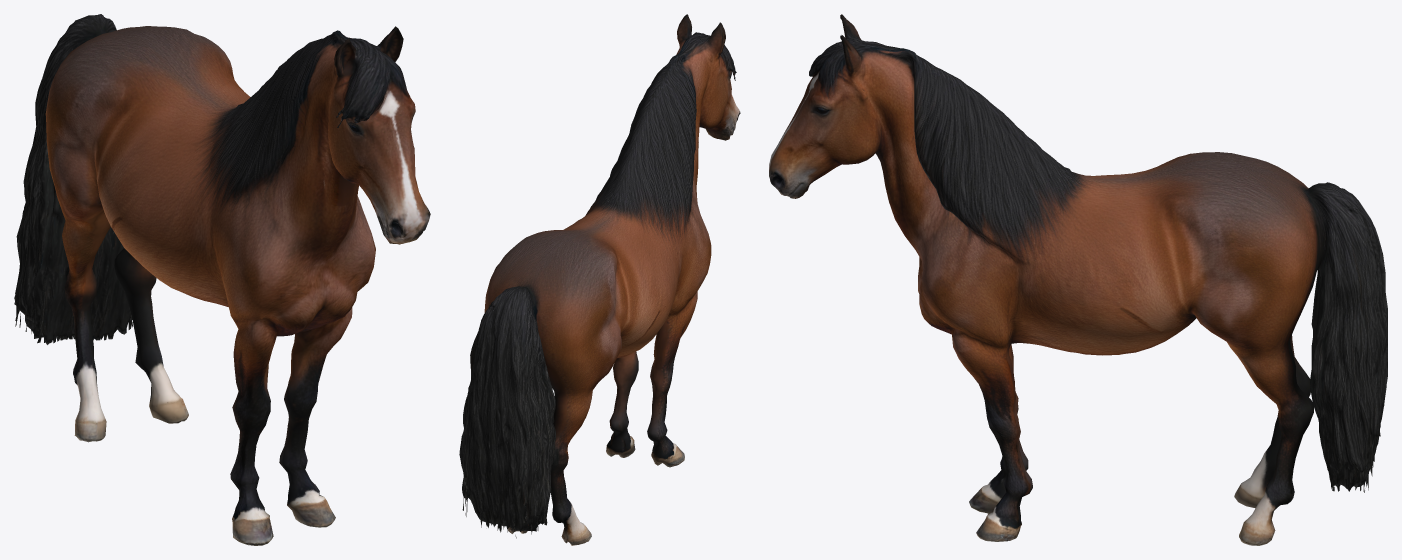
Rendered from horse-visual.glb.
3 views of the same model, side by side, from view 1: azimuth 30°, elevation 25°; view 2: azimuth 150°, elevation 25°; view 3: azimuth 270°, elevation 25° (orthographic). The views are drawn at different scales.
Parts seen in each view (by area): view 1: Model; view 2: Model; view 3: Model.
Boxes of the visible parts, x1,y1,x2,y2 form: Model: (14,14,430,545); Model: (459,14,740,545); Model: (769,14,1387,545).
Size of the model in its own units: 0.2955 by 0.8983 by 1.
1 material, 1 textured.
